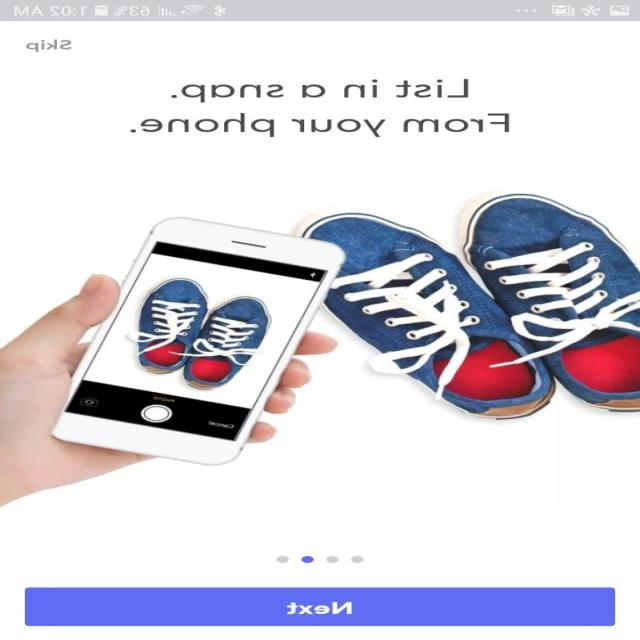Image: (1, 187, 640, 507)
Text: (130, 113, 510, 137), (172, 79, 469, 103), (26, 39, 73, 52)
TextButton: (25, 586, 615, 626)
